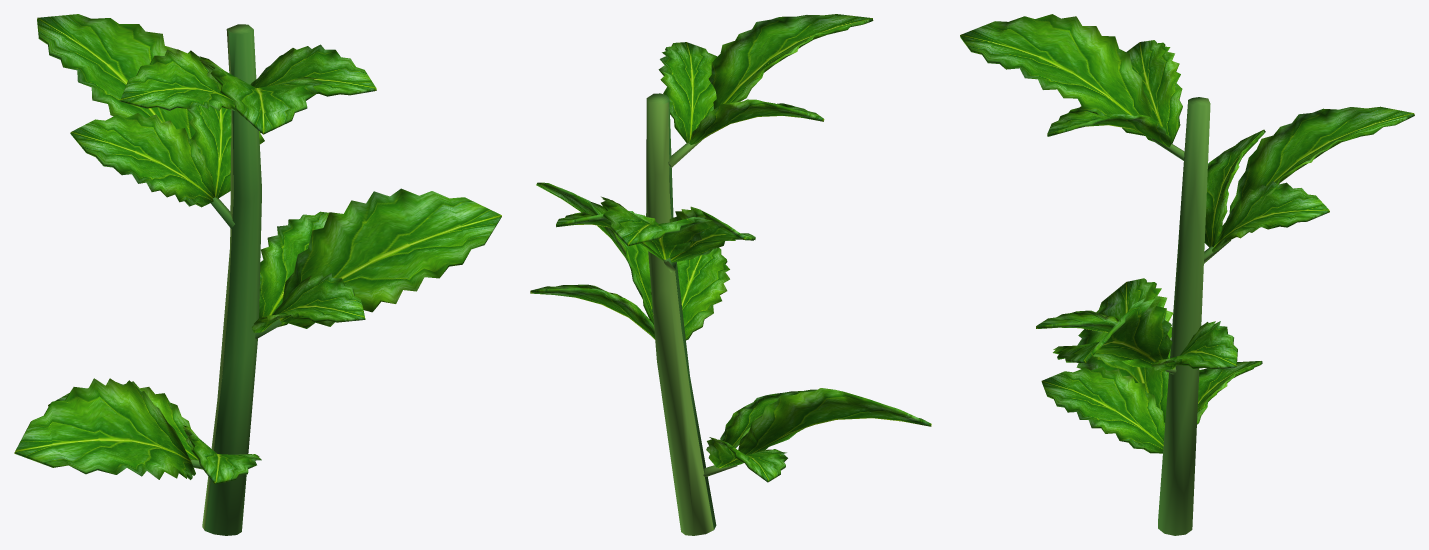
The model's file is NP_Dahlia_Young_LOD1.fbx.
3 views of the same model, side by side, from view 1: azimuth 30°, elevation 25°; view 2: azimuth 150°, elevation 25°; view 3: azimuth 270°, elevation 25° (orthographic). The views are drawn at different scales.
Visible parts, largest first — view 1: NP_Dahlia_Young; view 2: NP_Dahlia_Young; view 3: NP_Dahlia_Young.
Boxes of the visible parts, left/top/right/bottom form: NP_Dahlia_Young: left=14, top=14, right=501, bottom=535; NP_Dahlia_Young: left=530, top=14, right=931, bottom=535; NP_Dahlia_Young: left=960, top=14, right=1414, bottom=535.
Size of the model in its own units: 24.2 by 26.26 by 22.57.
